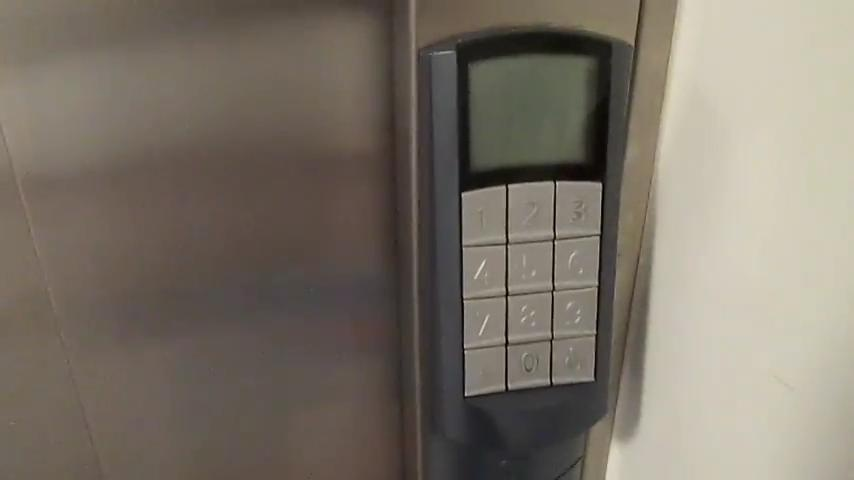0: (506, 338, 552, 393)
1: (459, 184, 508, 247)
2: (506, 179, 556, 246)
3: (554, 178, 605, 241)
4: (459, 243, 508, 300)
5: (505, 238, 556, 298)
6: (552, 232, 603, 293)
7: (460, 294, 509, 351)
8: (505, 289, 553, 346)
9: (552, 283, 600, 341)
CH: (551, 333, 598, 388)
empty: (462, 343, 508, 399)
